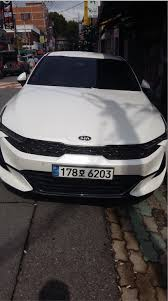car: (49, 163, 117, 182)
